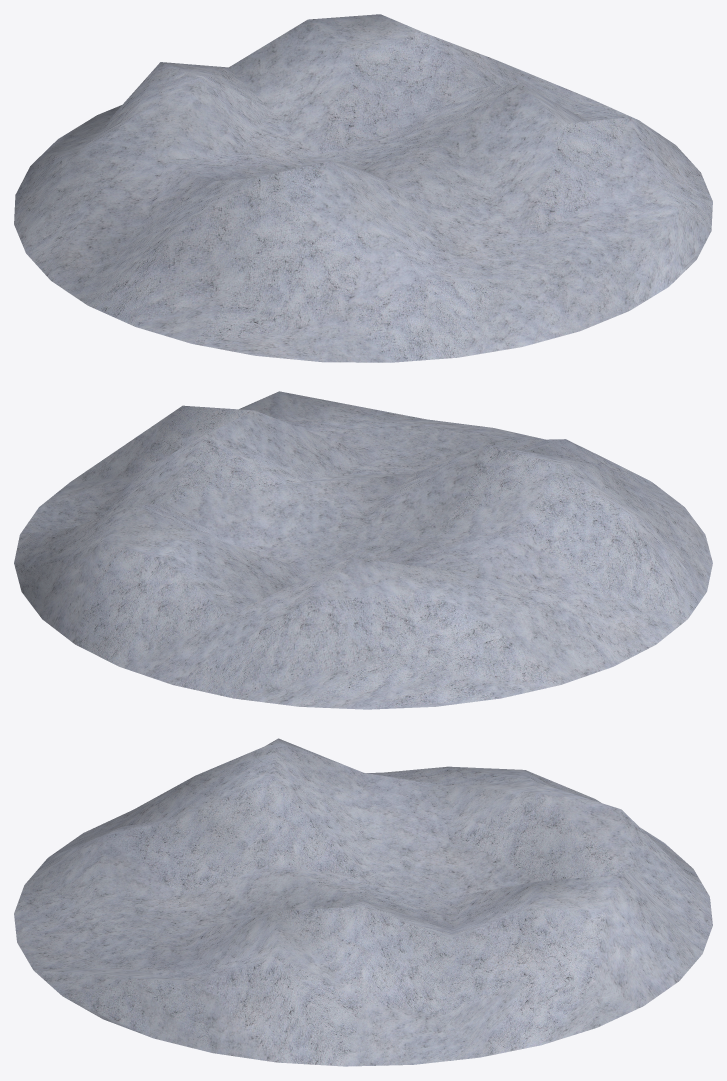
Rendered from snow.fbx.
3 renders of one model, top to bottom at view 1: azimuth 30°, elevation 25°; view 2: azimuth 150°, elevation 25°; view 3: azimuth 270°, elevation 25°, orthographic.
Parts seen in each view (by area): view 1: snow; view 2: snow; view 3: snow.
Part boxes in pixels (left/top/right/bottom): snow: left=14, top=14, right=712, bottom=362; snow: left=14, top=391, right=712, bottom=709; snow: left=14, top=738, right=712, bottom=1066.
Size of the model in its own units: 336 by 56.51 by 336.
Materials: 1 (1 with a texture image).
